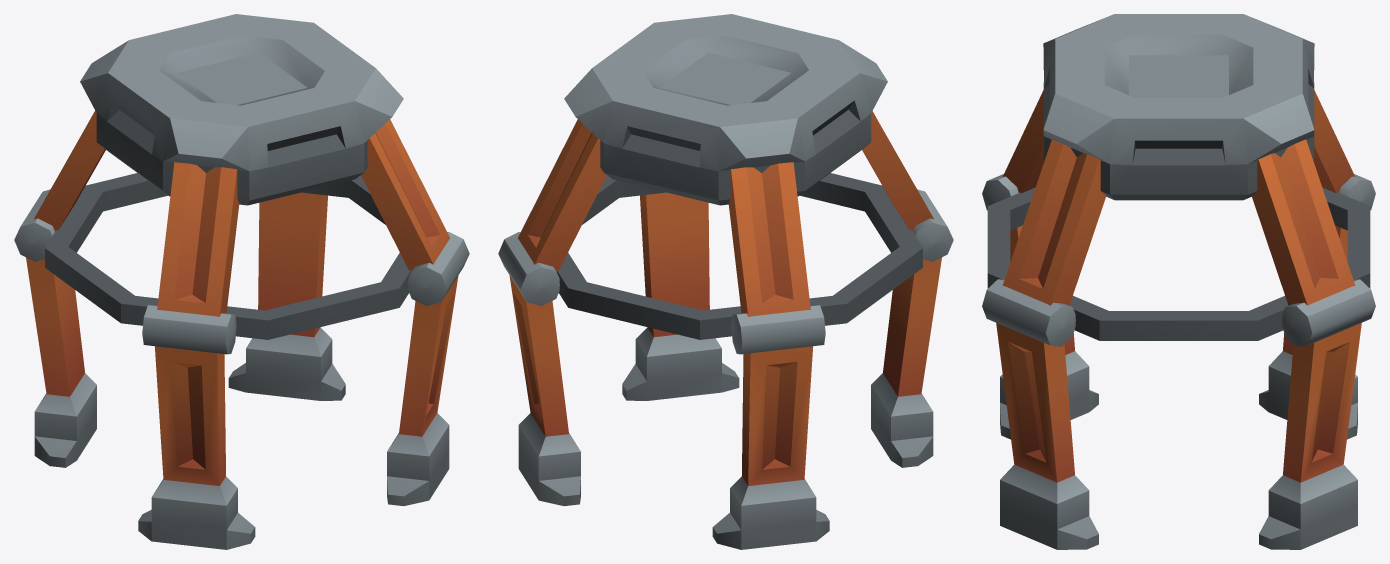
Rendered from Platform Structure.glb.
3 renders of one model, left to right at view 1: azimuth 30°, elevation 25°; view 2: azimuth 150°, elevation 25°; view 3: azimuth 270°, elevation 25°, orthographic. The views are drawn at different scales.
Visible parts, largest first — view 1: structure_tall; view 2: structure_tall; view 3: structure_tall.
Boxes of the visible parts, box(x1,y1,x2,y2) form: structure_tall: box(14, 14, 469, 549); structure_tall: box(498, 14, 953, 549); structure_tall: box(982, 14, 1375, 549).
Size of the model in its own units: 1.75 by 2 by 1.75.
Materials: 1 (1 with a texture image).
